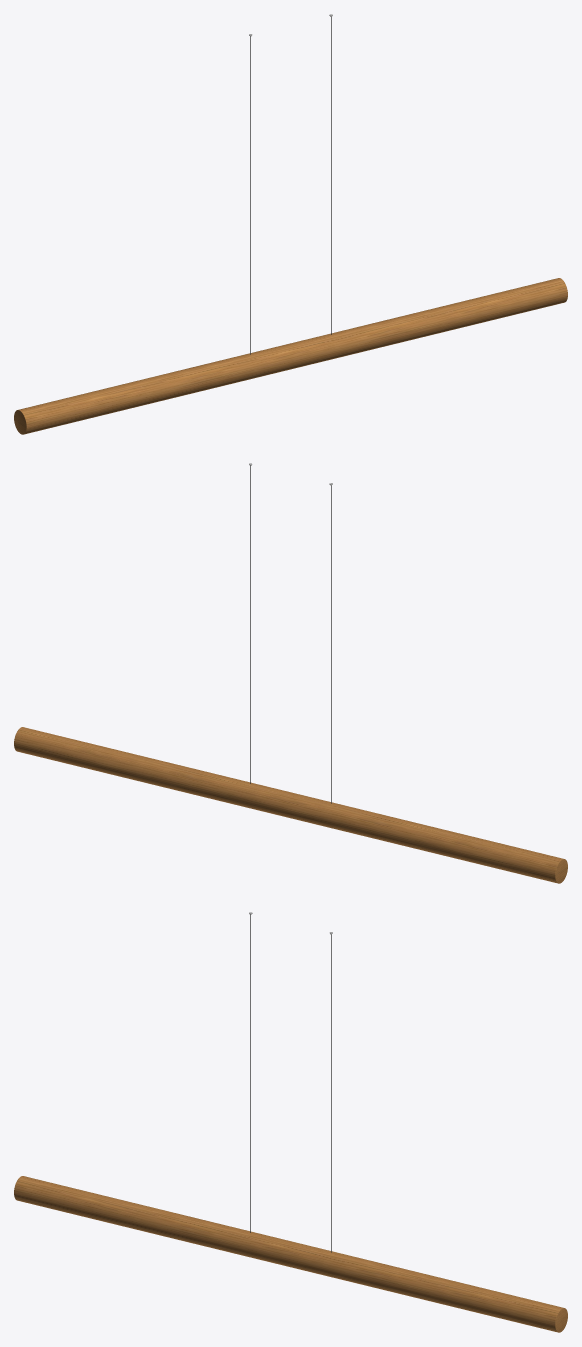
The model's file is pend_linear.glb.
3 renders of one model, top to bottom at view 1: azimuth 30°, elevation 25°; view 2: azimuth 150°, elevation 25°; view 3: azimuth 330°, elevation 25°, orthographic.
Parts seen in each view (by area): view 1: Object_4, Object_6; view 2: Object_4, Object_6; view 3: Object_4, Object_6.
Part boxes in pixels (x1,y1,x2,y2): Object_4: (14,278,567,434); Object_6: (250,17,331,354); Object_4: (14,727,567,883); Object_6: (250,466,331,803); Object_4: (14,1176,567,1332); Object_6: (250,915,331,1252).
Bounding box in the file's own units: 1.2 × 0.7262 × 0.0488.
4 materials, 1 textured.
